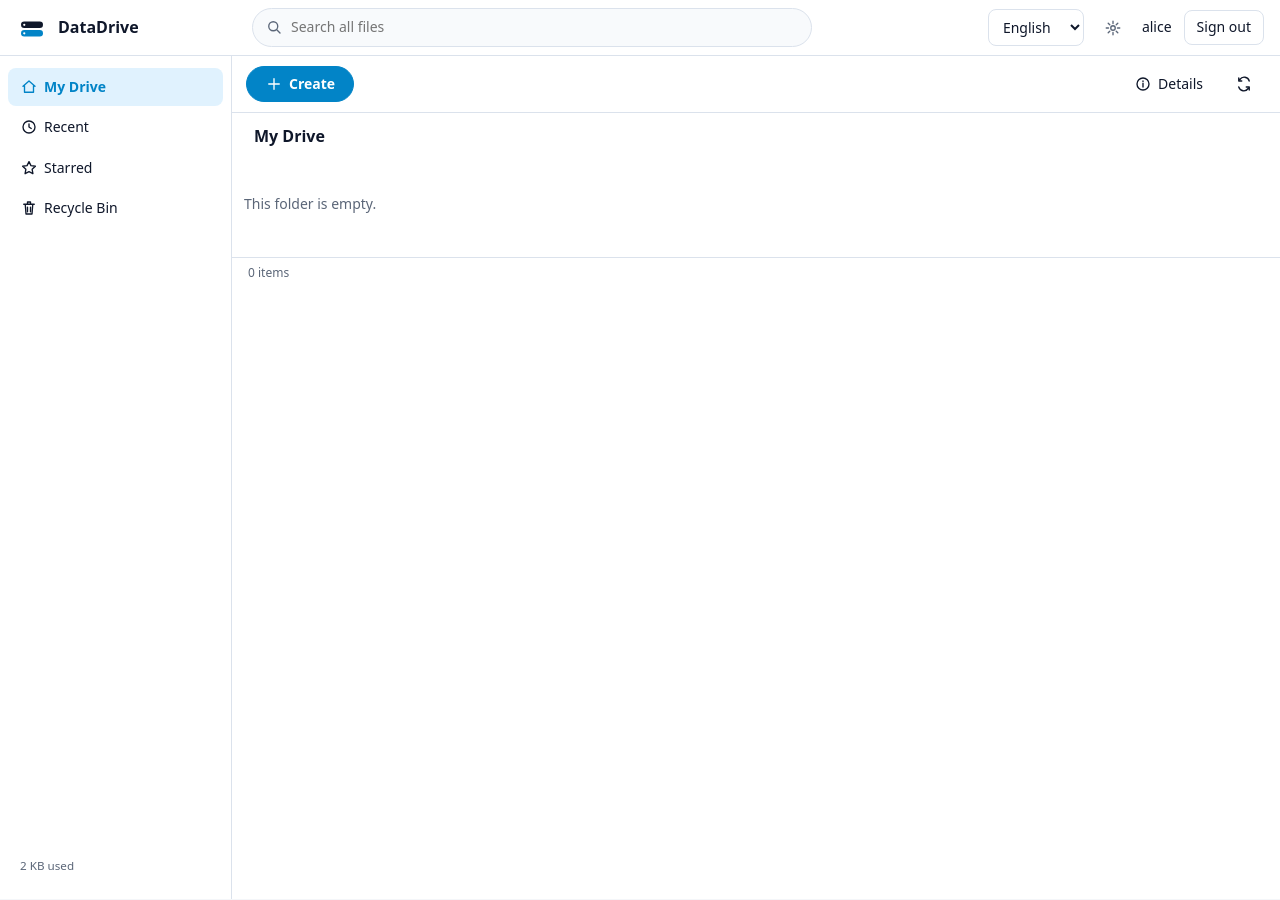
Scenario: administration › lists users with role and status and filters them
The image size is (1280, 900).
Expected: the element named "Actions" is shown, [232,56,1279,113]
Click the button named "Administration" at {"x": 1113, "y": 28}, box [1096,14,1130,40]
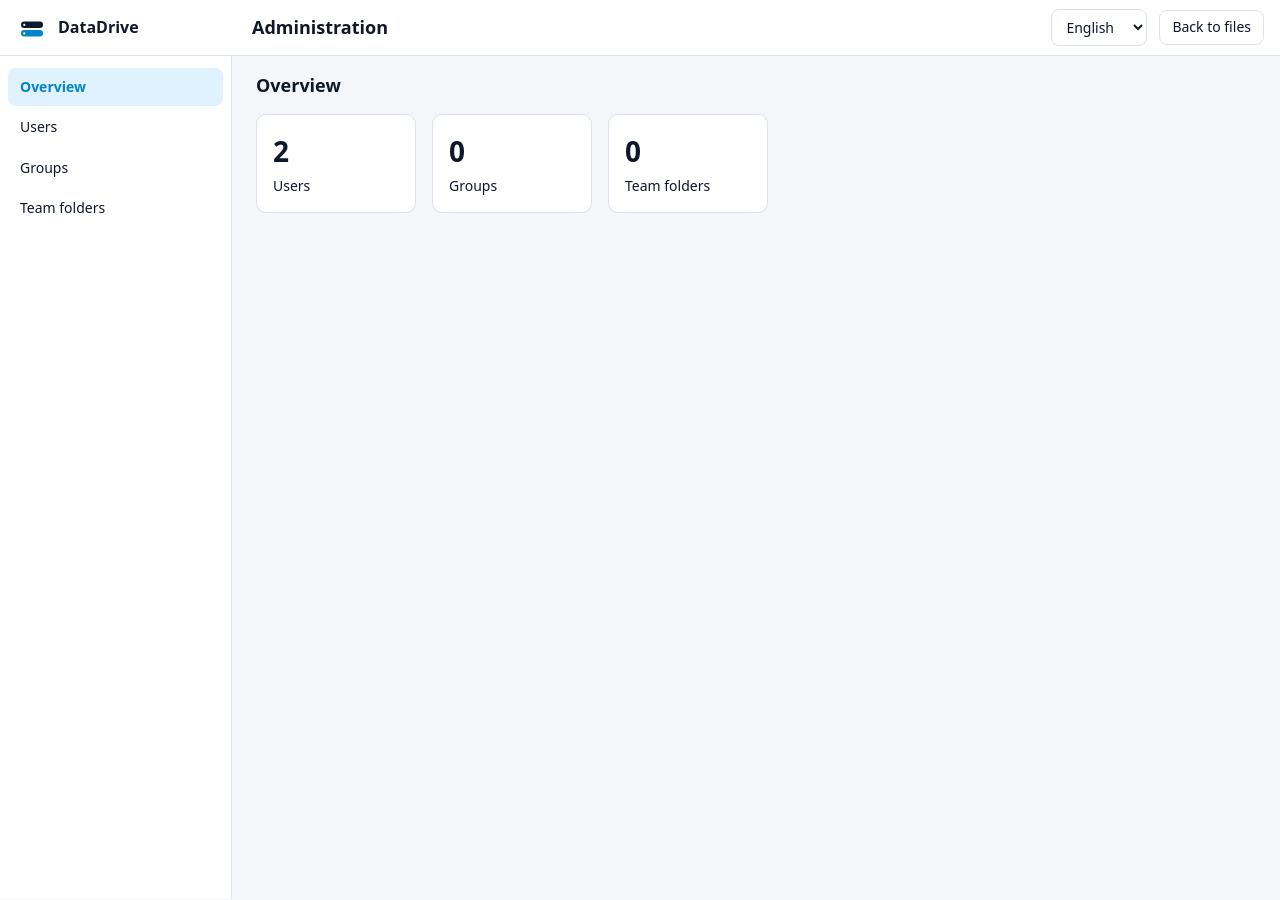
Click the button "Users" at {"x": 116, "y": 127}, box [8,108,223,147]
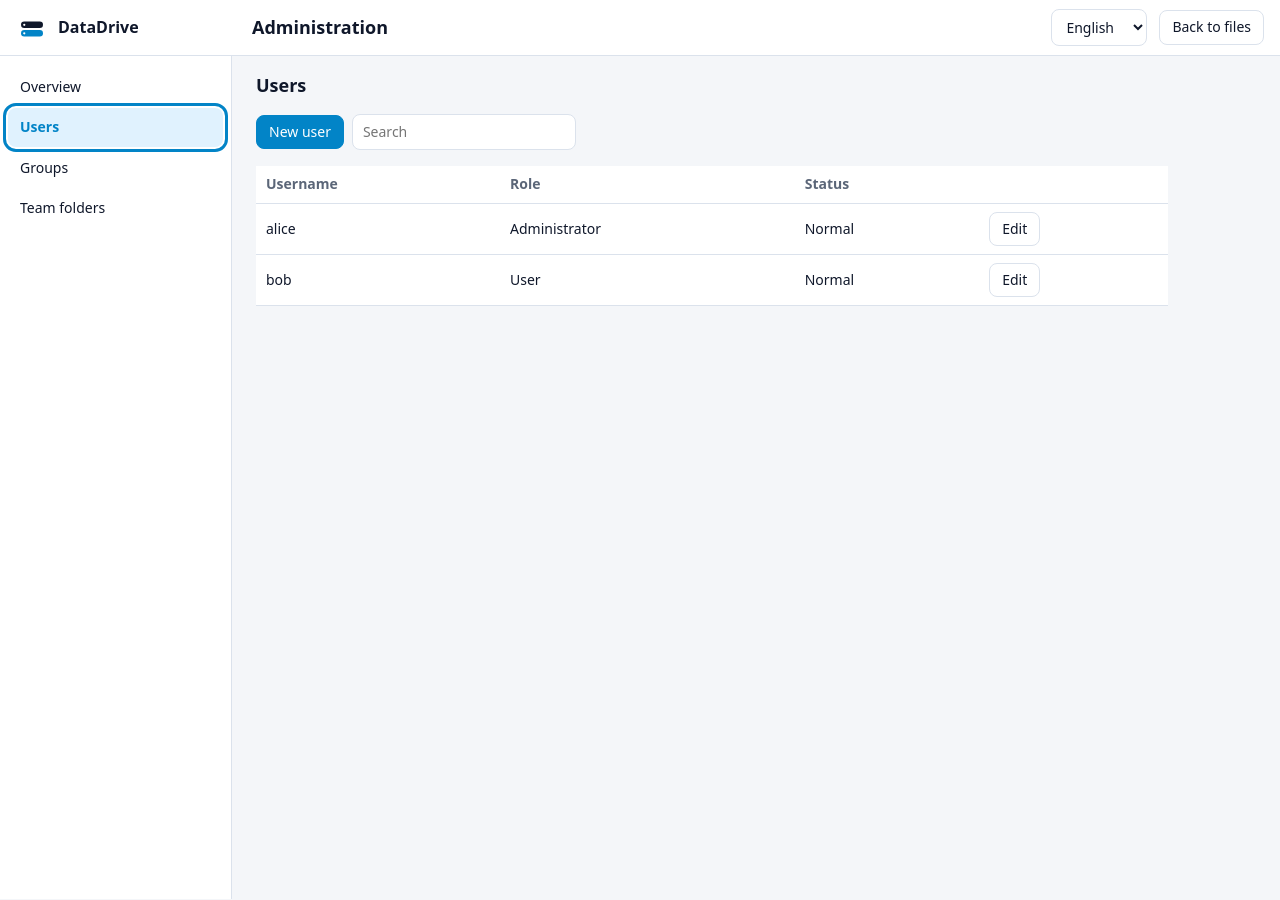
Now the text "bob" is shown, box [256,254,500,306]
Now the text "Normal" is shown 2 times, box [795,203,979,254]; [795,254,979,306]
Type "bo" into the search field labelled "Search" at {"x": 464, "y": 132}, box [352,114,576,150]
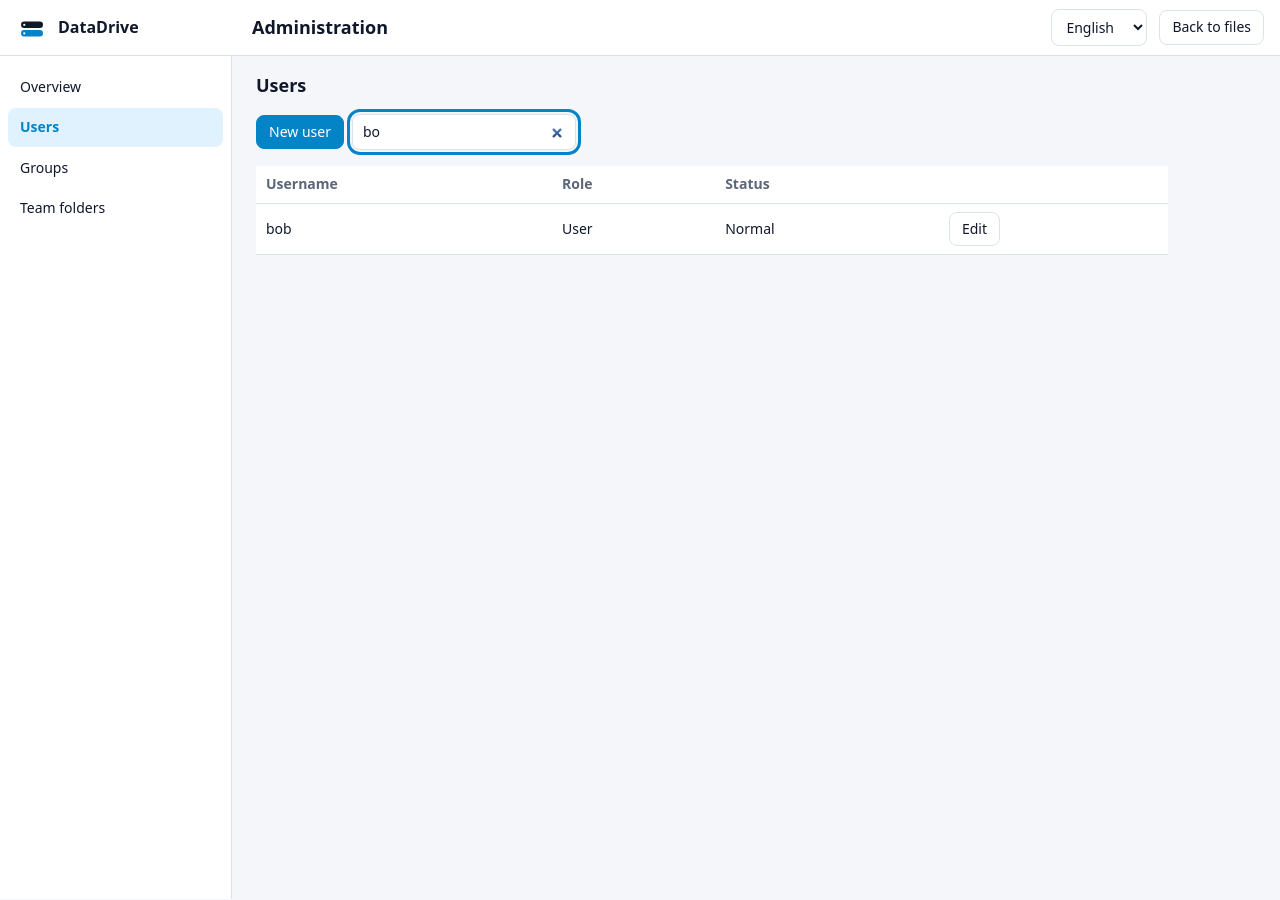
Now the text "bob" is shown, box [256,203,552,254]
Now the text "alice" is gone
